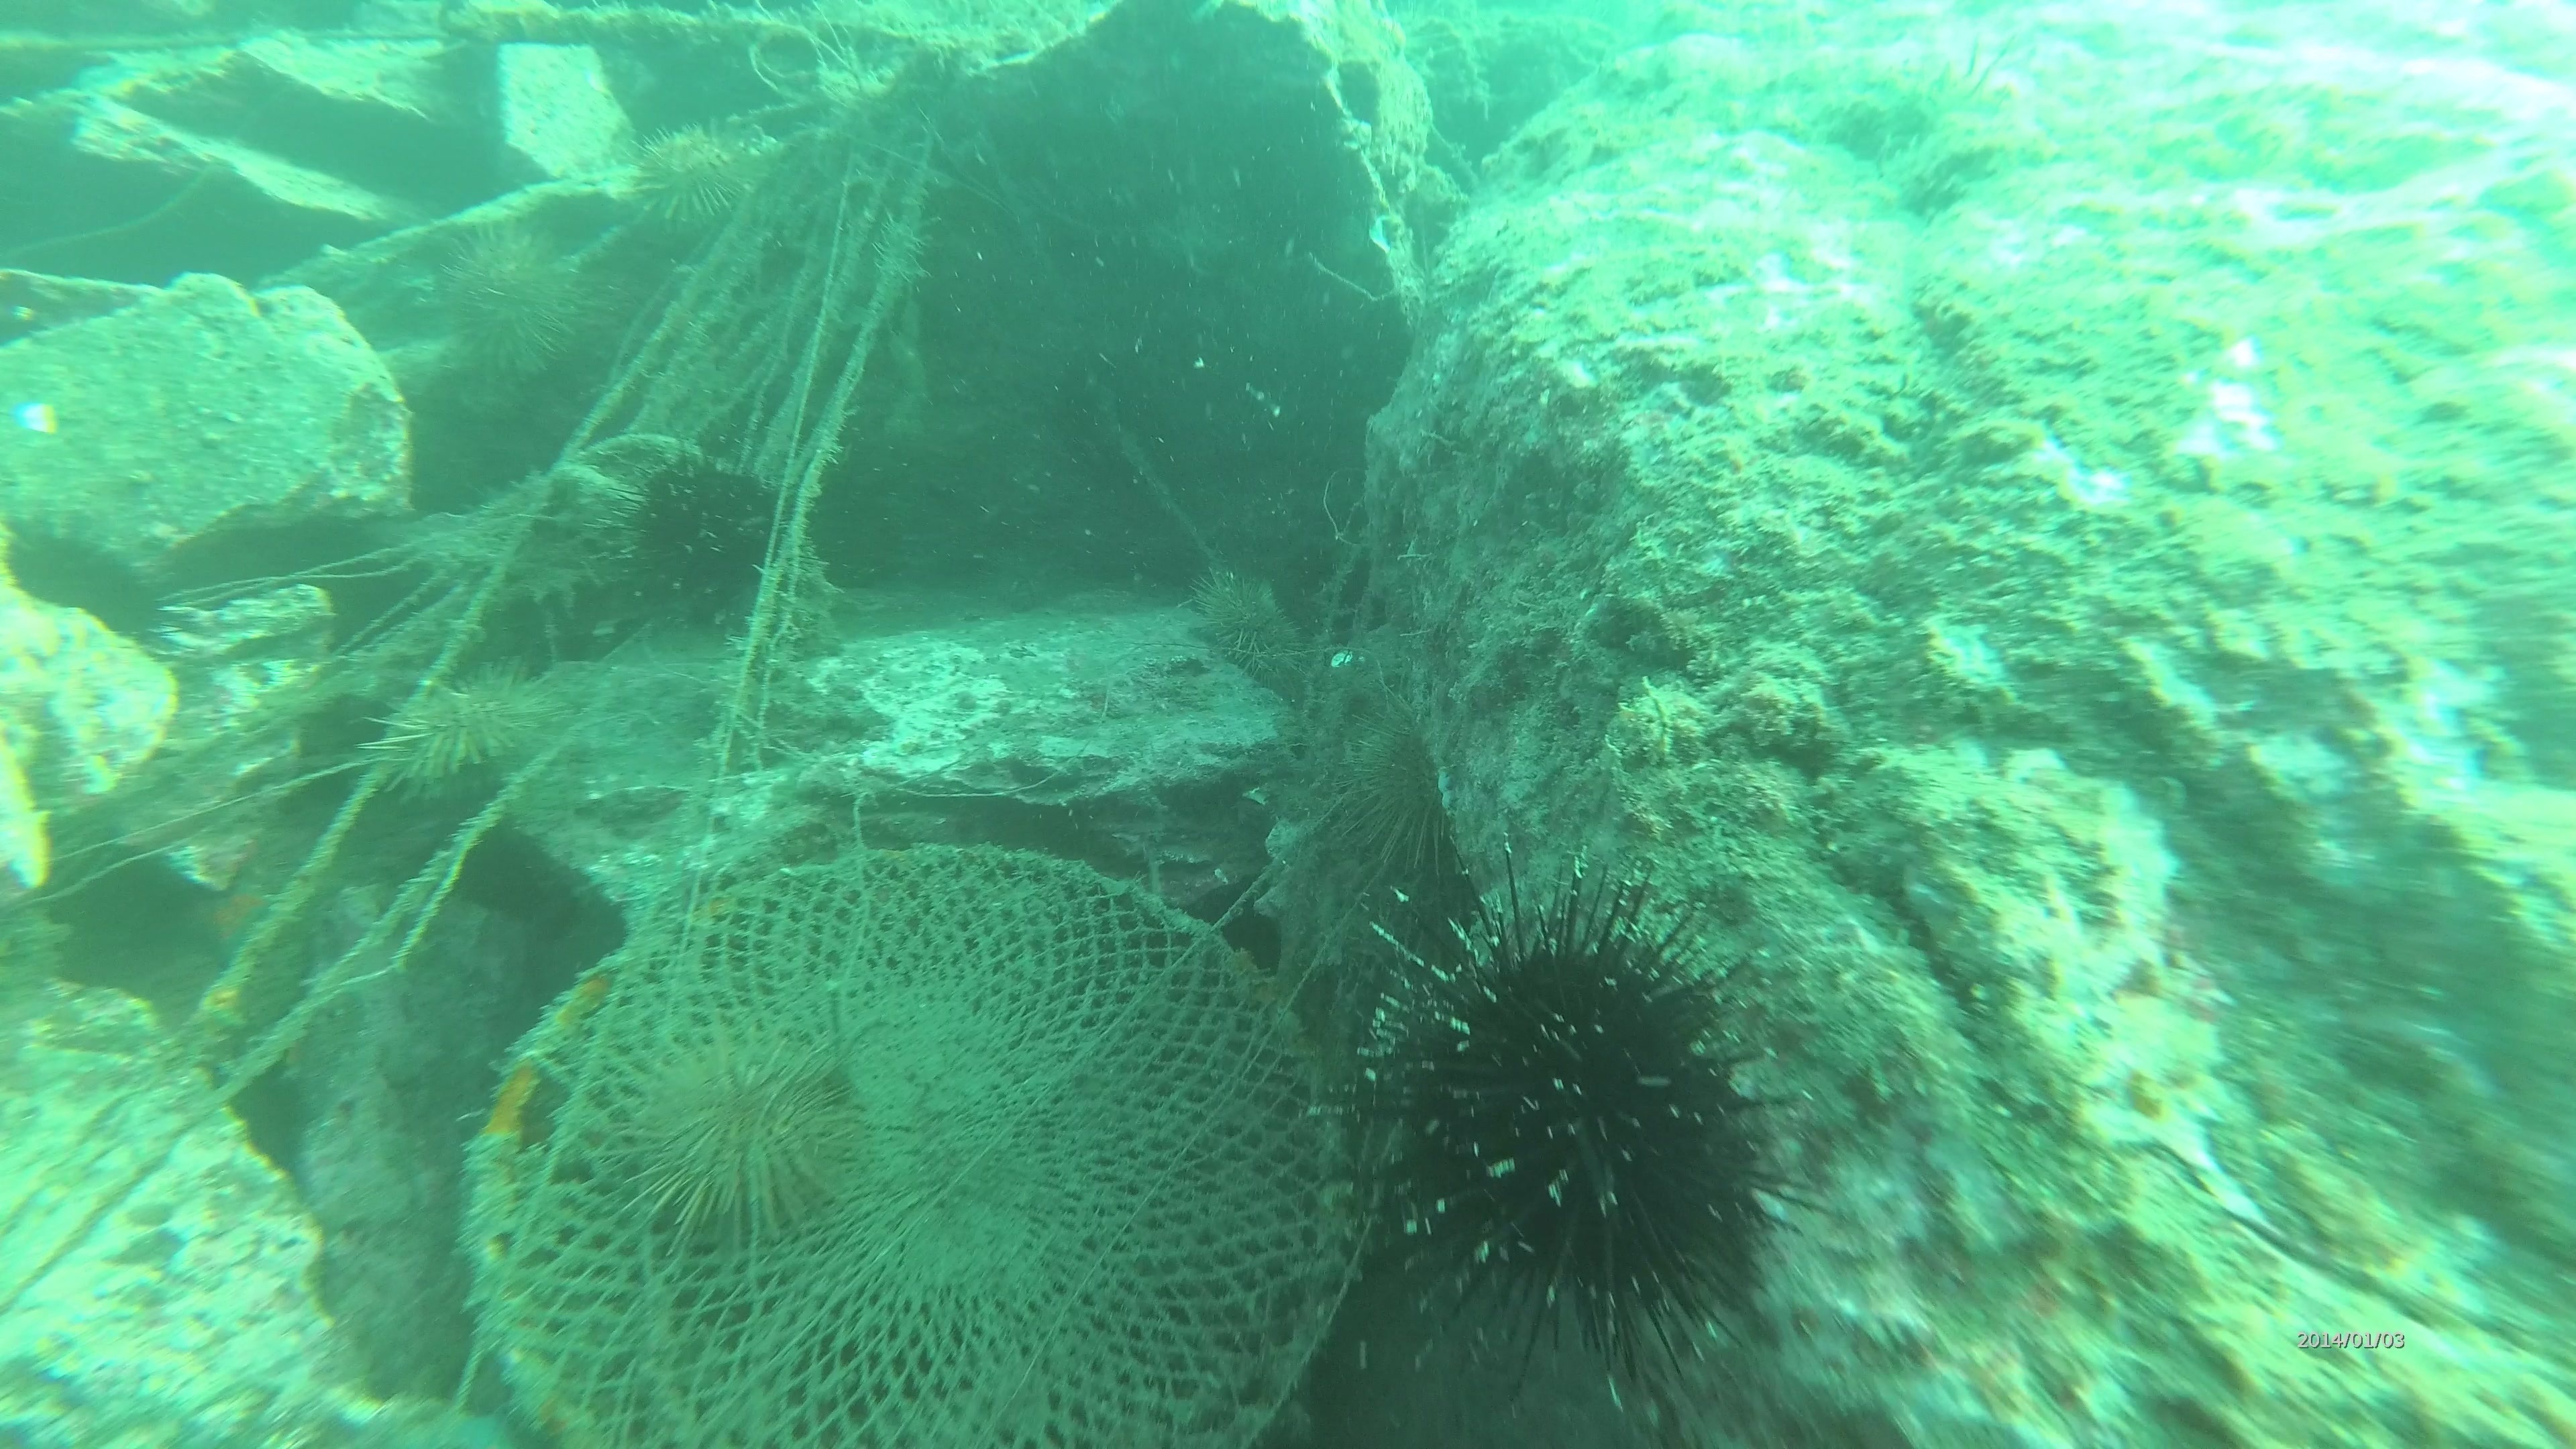echinus: (1353, 869, 1796, 1376), (610, 1039, 865, 1249), (617, 448, 789, 632), (364, 656, 564, 801), (5, 515, 186, 667), (428, 223, 594, 384), (1330, 686, 1461, 879), (621, 111, 777, 241), (1178, 561, 1318, 701)
starfish: (182, 865, 283, 970)
